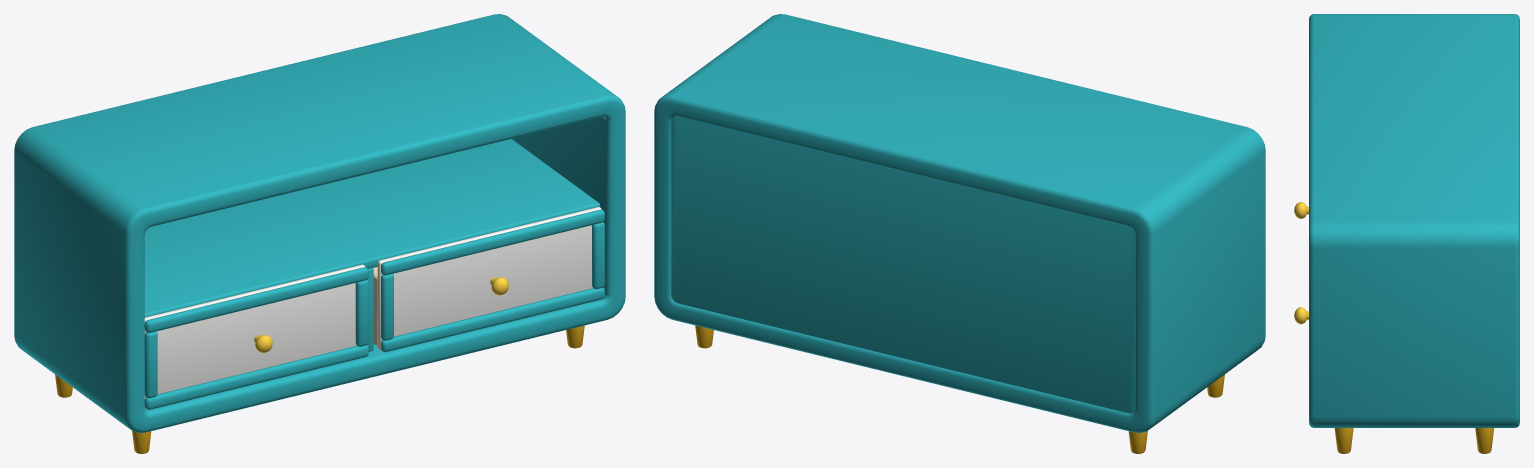
The model's file is rack_gavetas_brancas_turquesa.glb.
3 renders of one model, left to right at view 1: azimuth 30°, elevation 25°; view 2: azimuth 150°, elevation 25°; view 3: azimuth 270°, elevation 25°, orthographic. The views are drawn at different scales.
Parts seen in each view (by area): view 1: rack_gavetas_brancas_turquesa, gaveta_2, gaveta_1; view 2: rack_gavetas_brancas_turquesa; view 3: rack_gavetas_brancas_turquesa.
Boxes of the visible parts, <box> form: rack_gavetas_brancas_turquesa: <box>14,14,625,453</box>; gaveta_2: <box>373,207,604,352</box>; gaveta_1: <box>144,264,368,409</box>; rack_gavetas_brancas_turquesa: <box>654,14,1265,453</box>; rack_gavetas_brancas_turquesa: <box>1309,14,1519,453</box>.
Bounding box in the file's own units: 1.05 × 0.52 × 0.4496.
Materials: 1 (1 with a texture image).
